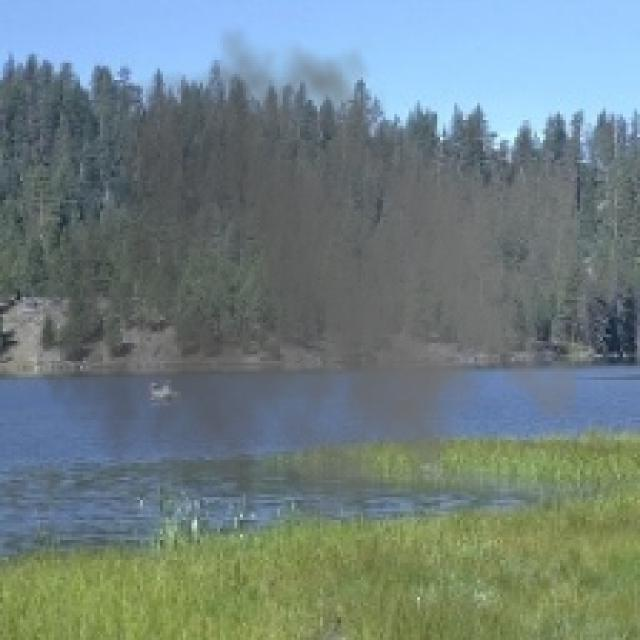smoke: (34, 23, 577, 571)
